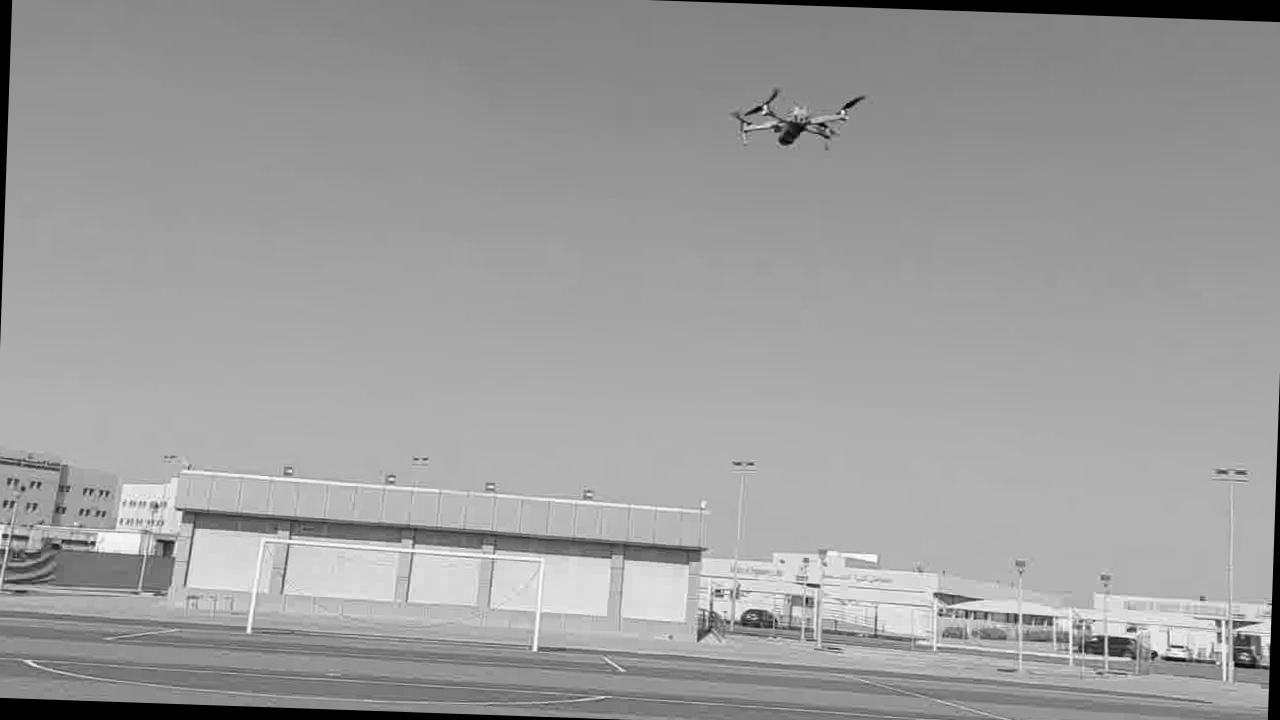drone: (720, 84, 874, 162)
